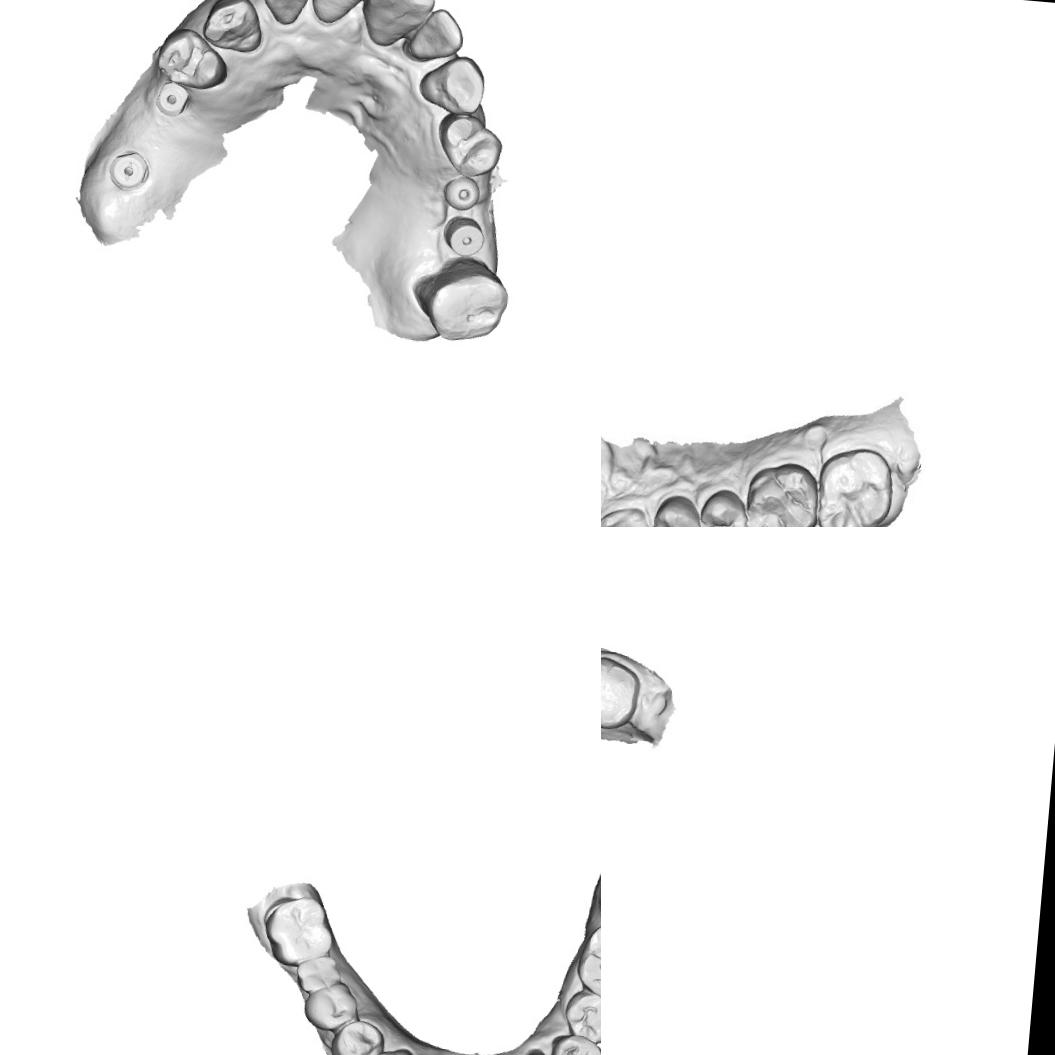canine: (420, 53, 488, 115), (201, 0, 266, 56), (601, 501, 653, 527)
implant: (442, 212, 486, 256), (440, 172, 483, 212), (149, 78, 188, 116)
implant_minus: (106, 146, 152, 192)
incisor: (360, 0, 437, 49), (404, 6, 463, 65), (306, 0, 375, 27), (261, 0, 314, 26)
molar: (412, 254, 512, 346), (810, 442, 897, 527), (739, 457, 821, 527), (264, 892, 335, 965), (601, 652, 642, 732), (574, 918, 601, 1005)
premolar: (432, 103, 511, 178), (154, 26, 230, 93), (300, 978, 360, 1036), (694, 486, 754, 527), (293, 949, 343, 997), (560, 987, 601, 1045), (646, 490, 706, 527), (330, 1016, 383, 1055), (547, 1031, 601, 1055)
